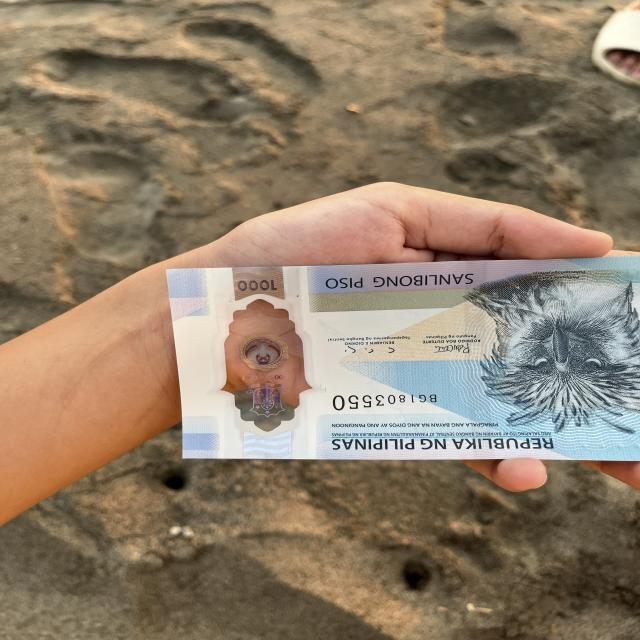clear_window: (206, 265, 321, 466)
eagle: (467, 269, 640, 426)
